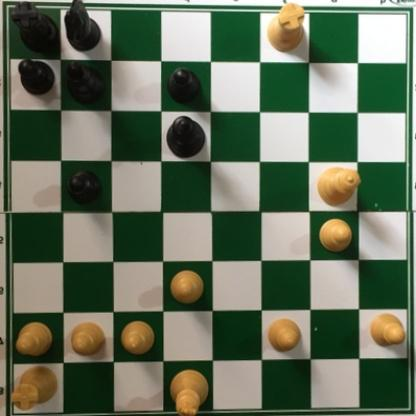black-bishop: (67, 58, 110, 104)
black-king: (165, 111, 207, 160)
black-knight: (62, 1, 104, 55)
black-pawn: (17, 57, 55, 95), (168, 67, 203, 105), (67, 170, 102, 205)
black-rook: (12, 1, 60, 54)
white-king: (169, 365, 211, 416)
white-pawn: (16, 319, 56, 359), (368, 308, 407, 348), (265, 314, 304, 354), (118, 319, 157, 358), (316, 216, 354, 256), (69, 321, 108, 358), (169, 270, 205, 305)
white-queen: (317, 164, 365, 206)
white-rook: (11, 360, 62, 412), (267, 2, 310, 55)
